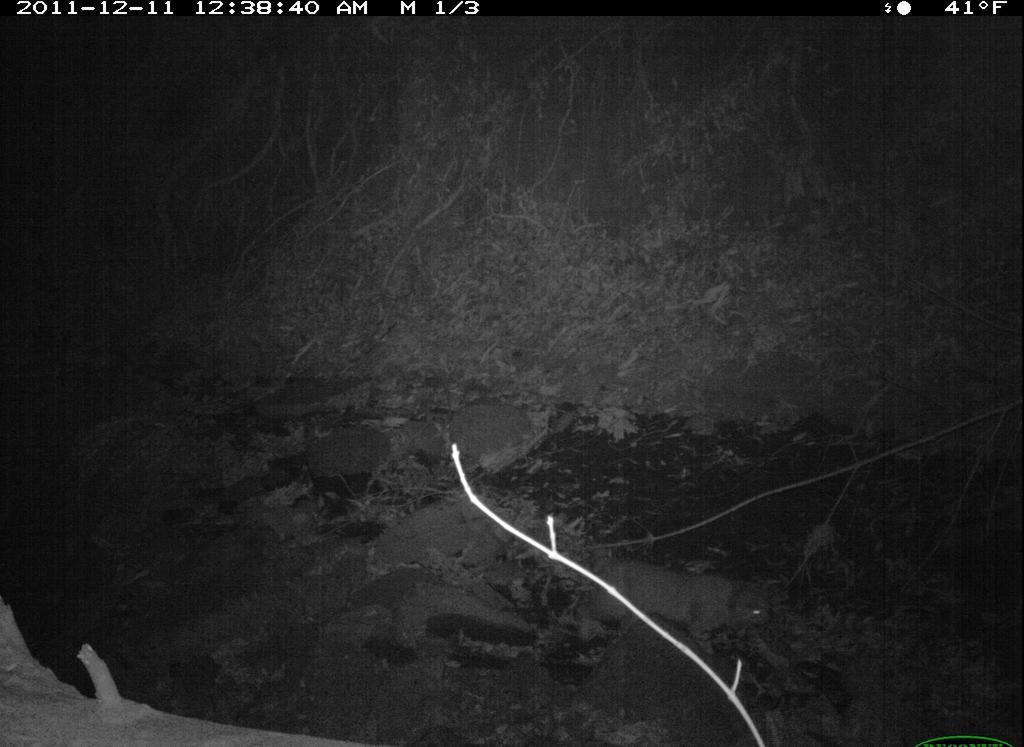bobcat: (566, 534, 799, 661)
